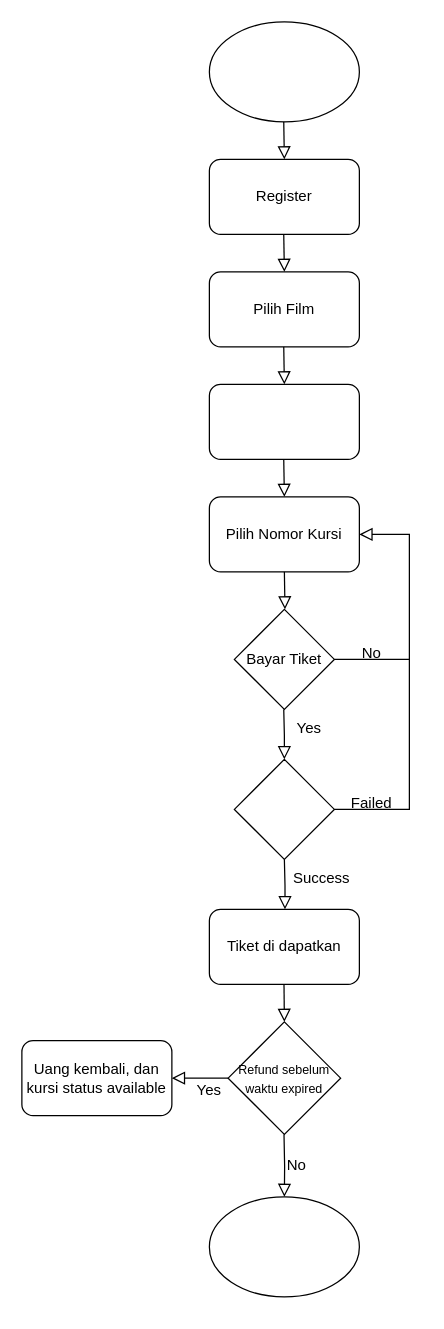
Some shapes in this 444 by 1329 pixel diagram are drawn without their labels. The centre of each missing label's shape, as x and y in pixels:
"End" goes at point 283,1246.
"Konfirmasi Pembayaran" goes at point 283,808.
"Pilih Ruangan/Jadwal Tayang" goes at point 283,421.
"Start" goes at point 283,71.
